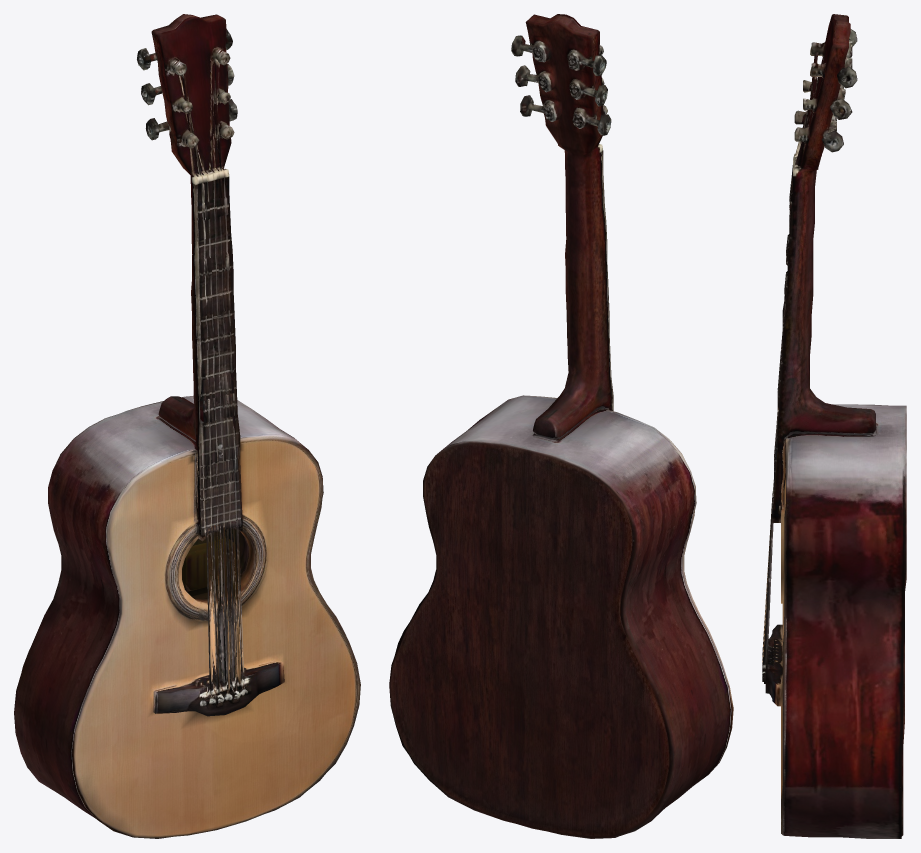
The model's file is classical.glb.
3 renders of one model, left to right at view 1: azimuth 30°, elevation 25°; view 2: azimuth 150°, elevation 25°; view 3: azimuth 270°, elevation 25°, orthographic.
Parts seen in each view (by area): view 1: tripo_node_24599c50-663c-409b-a9e1-660754209362; view 2: tripo_node_24599c50-663c-409b-a9e1-660754209362; view 3: tripo_node_24599c50-663c-409b-a9e1-660754209362.
Boxes of the visible parts, left/top/right/bottom form: tripo_node_24599c50-663c-409b-a9e1-660754209362: left=14, top=14, right=360, bottom=838; tripo_node_24599c50-663c-409b-a9e1-660754209362: left=389, top=14, right=733, bottom=838; tripo_node_24599c50-663c-409b-a9e1-660754209362: left=762, top=14, right=906, bottom=838.
Bounding box in the file's own units: 0.3693 × 0.9777 × 0.1626.
Materials: 1 (1 with a texture image).
